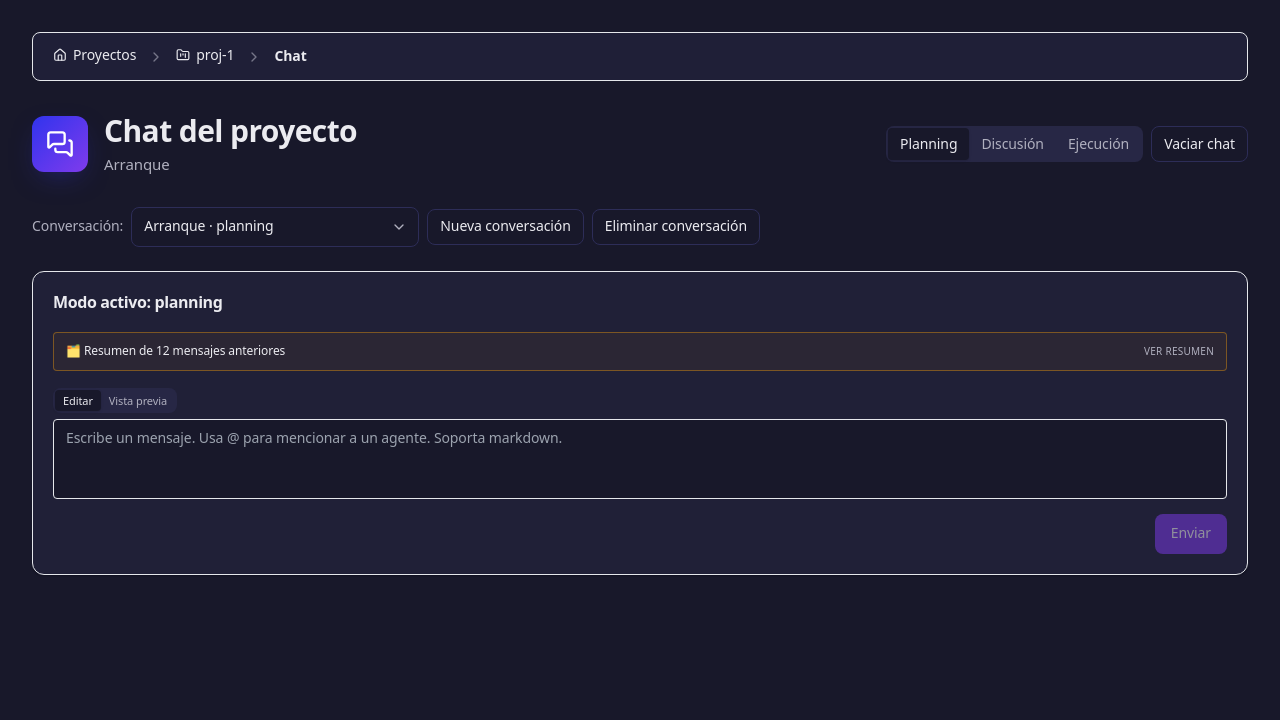
Test: Chat del proyecto — feed de mensajes › un resumen plegado se pinta como resumen y se despliega al pulsarlo
Expected: the element with test id "chat-message-summary" is shown, 53,332 -> 1227,371
Click the button with test id "chat-summary-toggle".
click(176, 351)  # box 66,341 -> 1214,362
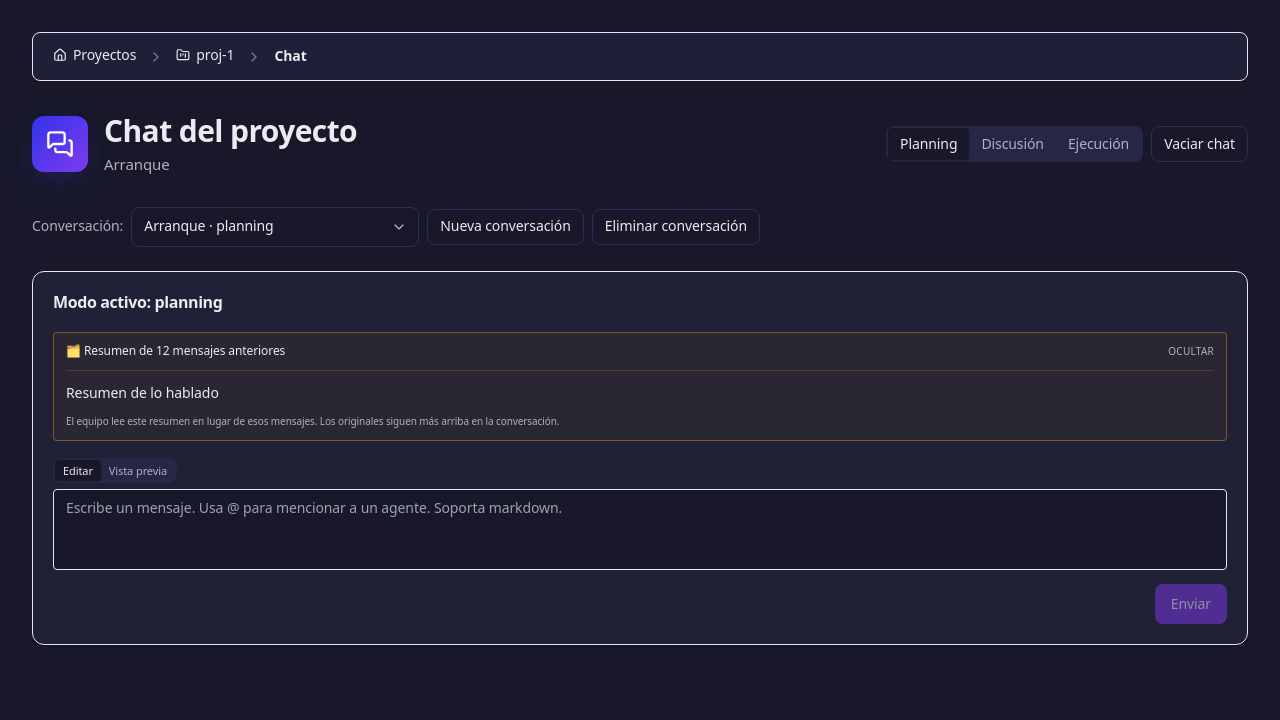
Result: the element with test id "chat-summary-body" shows "Resumen de lo hablado" at 66,383 -> 219,402
